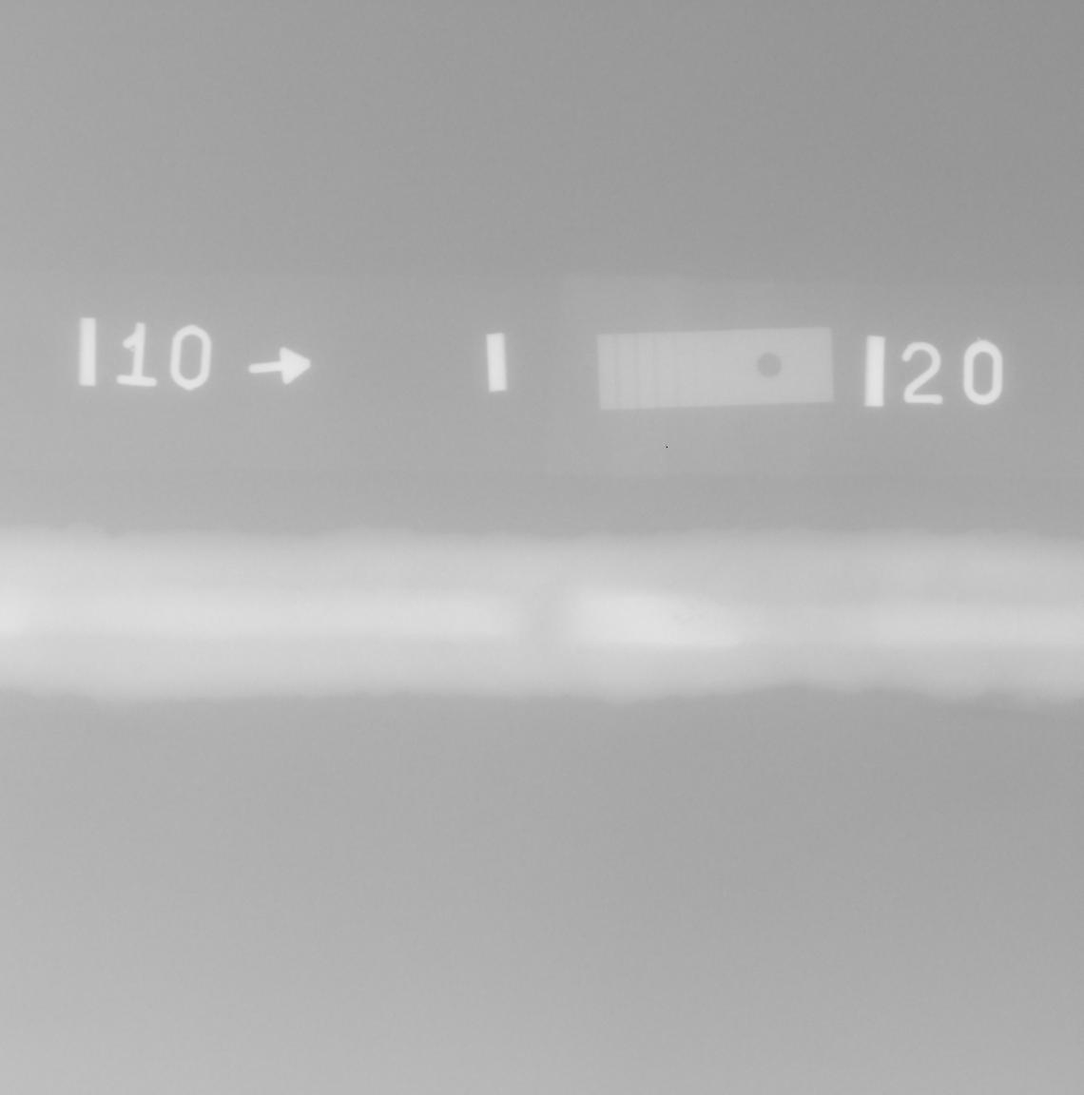Pore/Porosity: (674, 616, 694, 625), (697, 613, 703, 619), (782, 612, 786, 620), (690, 606, 696, 610)
Reference Standard 1: (596, 325, 834, 410)
Shrinkage Depression: (523, 601, 561, 649)
